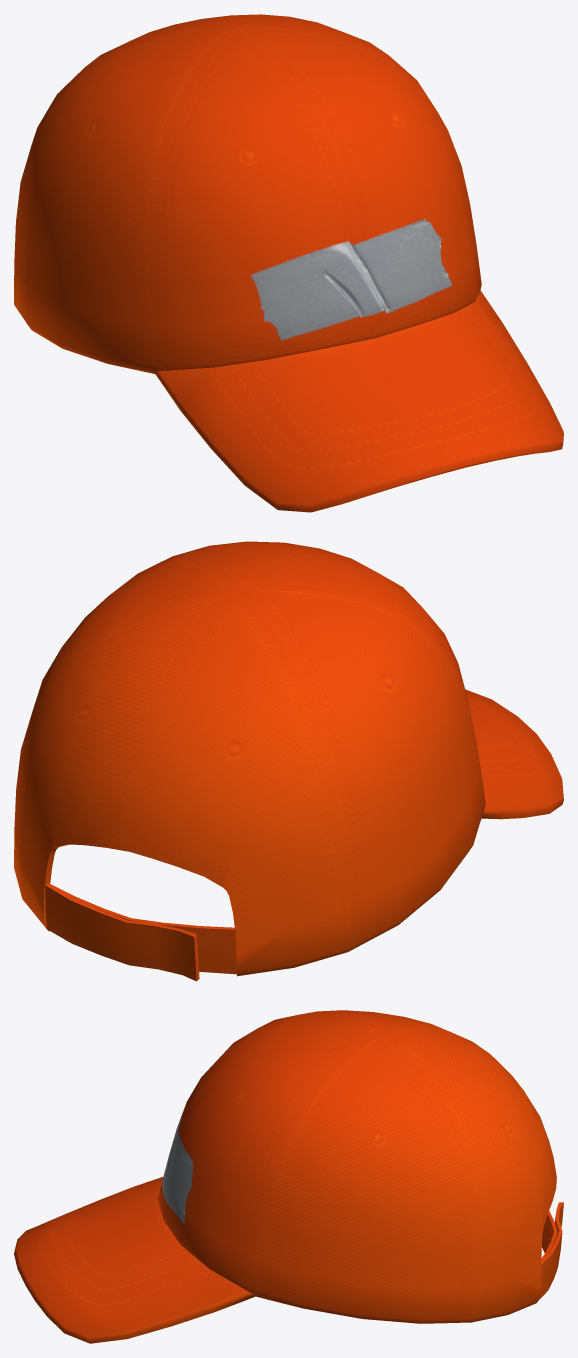
File: TapedUp_hat.glb
3 renders of one model, top to bottom at view 1: azimuth 30°, elevation 25°; view 2: azimuth 150°, elevation 25°; view 3: azimuth 270°, elevation 25°, orthographic. The views are drawn at different scales.
Visible parts, largest first — view 1: hat; view 2: hat; view 3: hat.
Boxes of the visible parts, x1,y1,x2,y2 form: hat: (14, 14, 563, 512); hat: (14, 541, 563, 981); hat: (14, 1010, 563, 1343).
Bounding box in the file's own units: 0.1662 × 0.1325 × 0.2572.
1 material, 1 textured.
